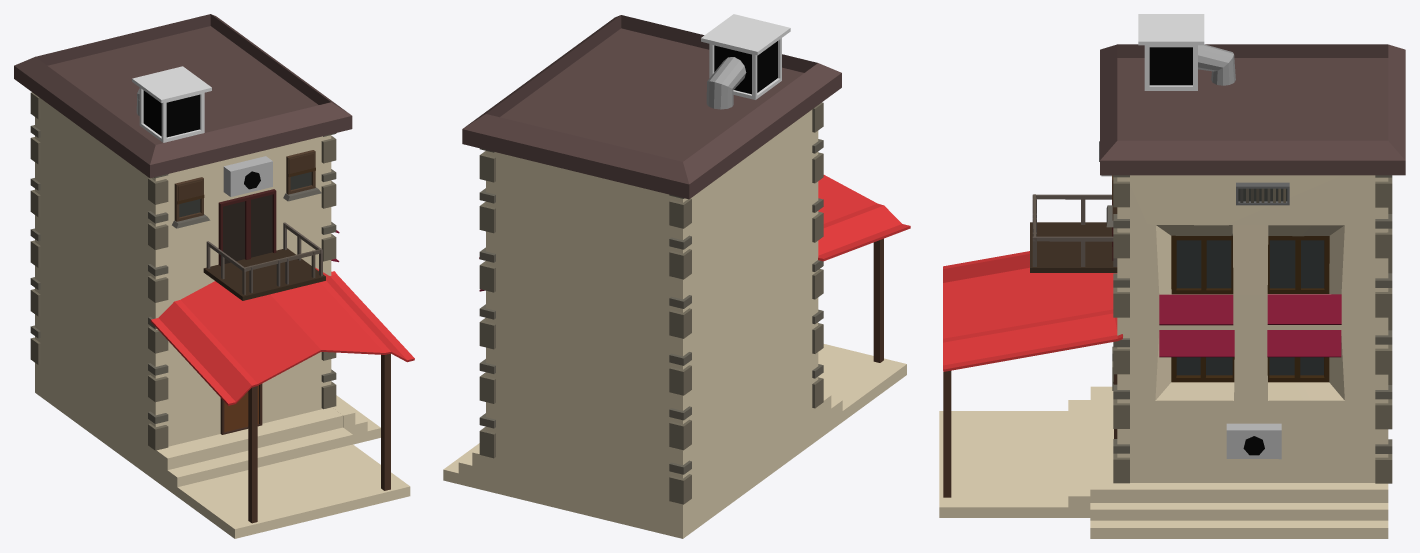
Rendered from house3 1.fbx.
3 views of the same model, side by side, from view 1: azimuth 30°, elevation 25°; view 2: azimuth 150°, elevation 25°; view 3: azimuth 270°, elevation 25° (orthographic). The views are drawn at different scales.
Visible parts, largest first — view 1: Cube.008, decor, Cube.296, Cube.298, Cube.299, Cube.303, Cube.297, Cube.295, Cube.287; view 2: Cube.008, decor, Cube.012; view 3: Cube.008, decor, Cube.296, Cube.307, Cube.303, Cube.012, Cube.363.
Part boxes in pixels (x1,y1,x2,y2): Cube.008: (14, 14, 414, 538); decor: (30, 92, 336, 450); Cube.296: (203, 248, 325, 300); Cube.298: (218, 196, 248, 266); Cube.299: (246, 189, 276, 259); Cube.303: (206, 222, 322, 294); Cube.297: (223, 156, 272, 196); Cube.295: (286, 150, 315, 194); Cube.287: (174, 177, 203, 221); Cube.008: (443, 14, 910, 538); decor: (479, 102, 823, 504); Cube.012: (706, 57, 746, 109); Cube.008: (939, 14, 1405, 538); decor: (1112, 175, 1392, 483); Cube.296: (1030, 222, 1117, 272); Cube.307: (1226, 423, 1281, 459); Cube.303: (1032, 194, 1117, 266); Cube.012: (1198, 44, 1235, 85); Cube.363: (1236, 182, 1289, 205).
Bounding box in the file's own units: 637 × 993 × 1007.
